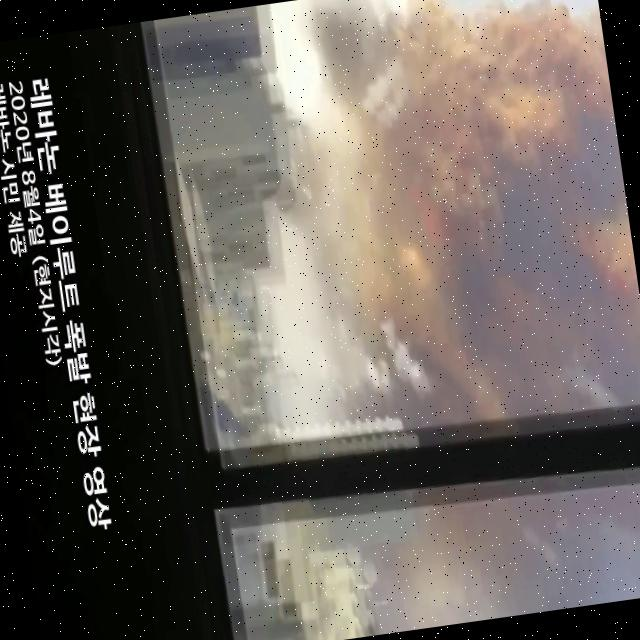explosion: (280, 0, 640, 636)
